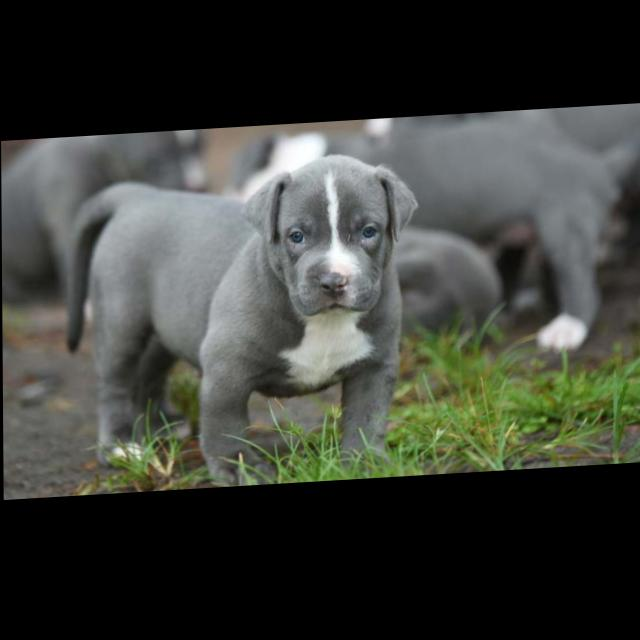am_pit_bull_terrier: (65, 154, 421, 498)
